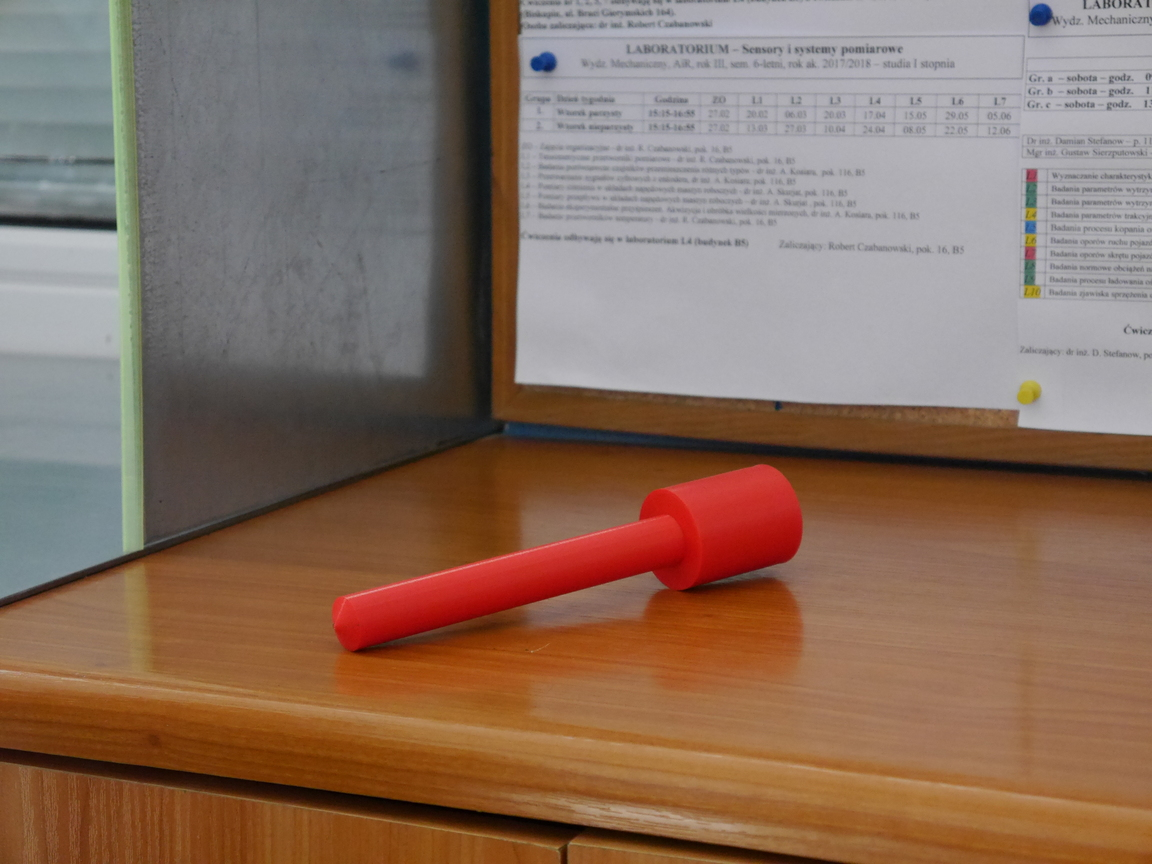cargo_g: (330, 464, 803, 653)
